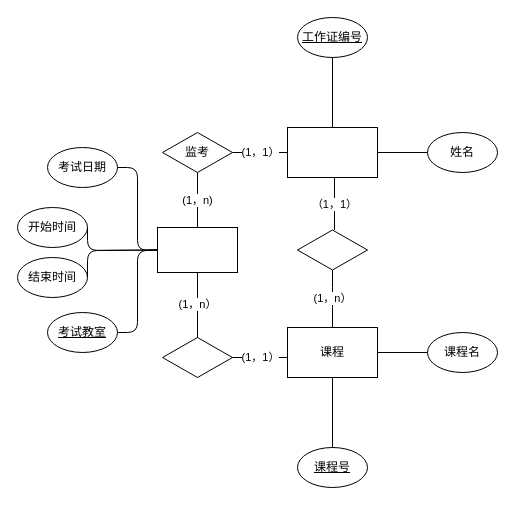
Image size: 515x505. Some labels were removed from this diagram. Each missing label, with the centre of its shape:
"主考" goes at (x=332, y=249).
"安排" goes at (x=197, y=357).
"教师" goes at (x=332, y=152).
"考试" goes at (x=197, y=249).
